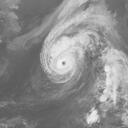cyclone: (39, 35, 84, 85)
